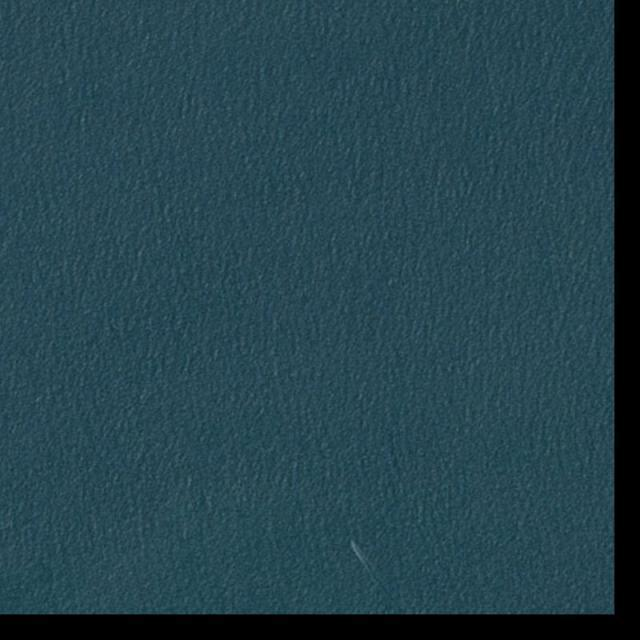ship: (351, 541, 357, 549)
